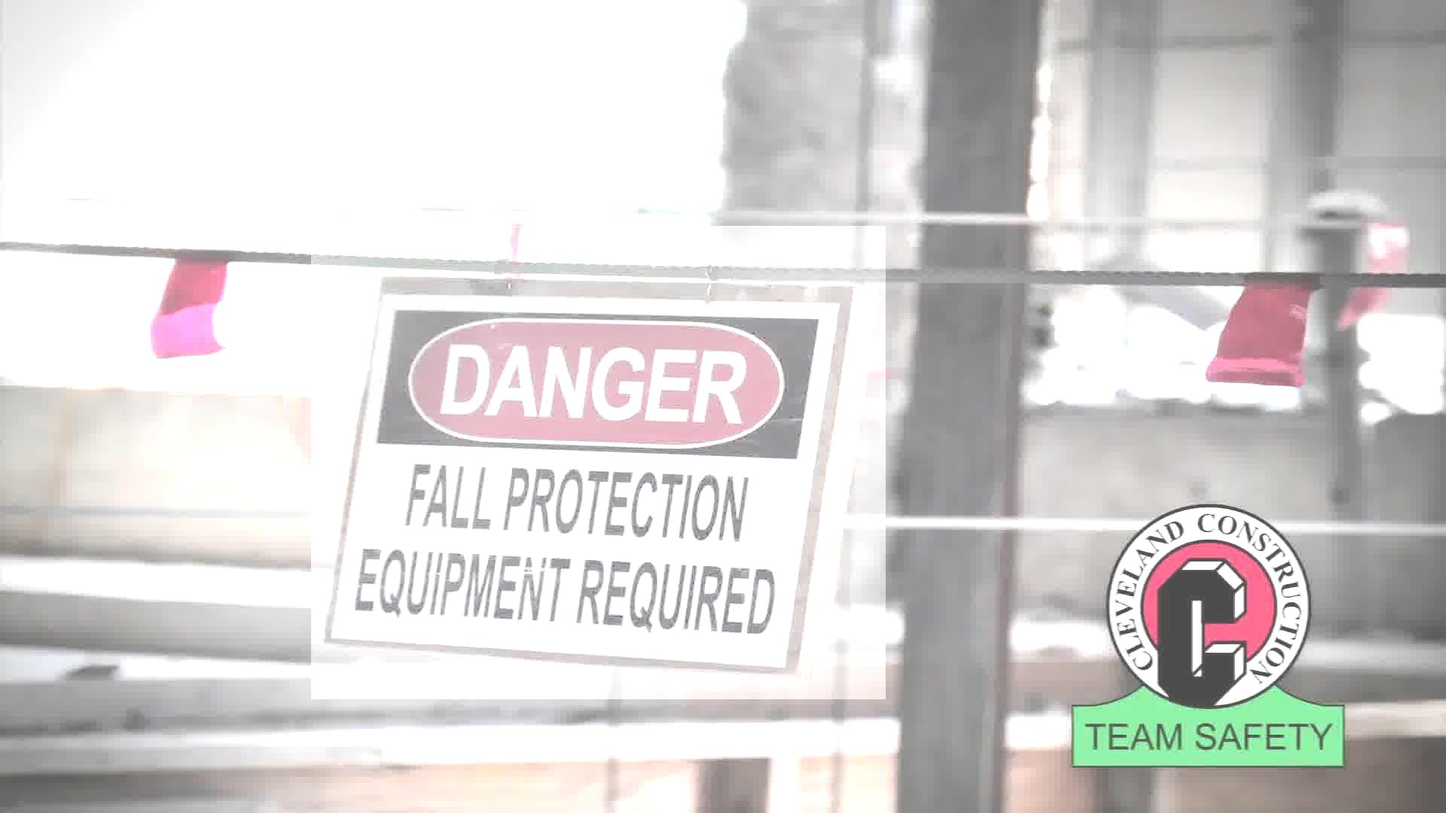safety_signage: (311, 226, 886, 699)
